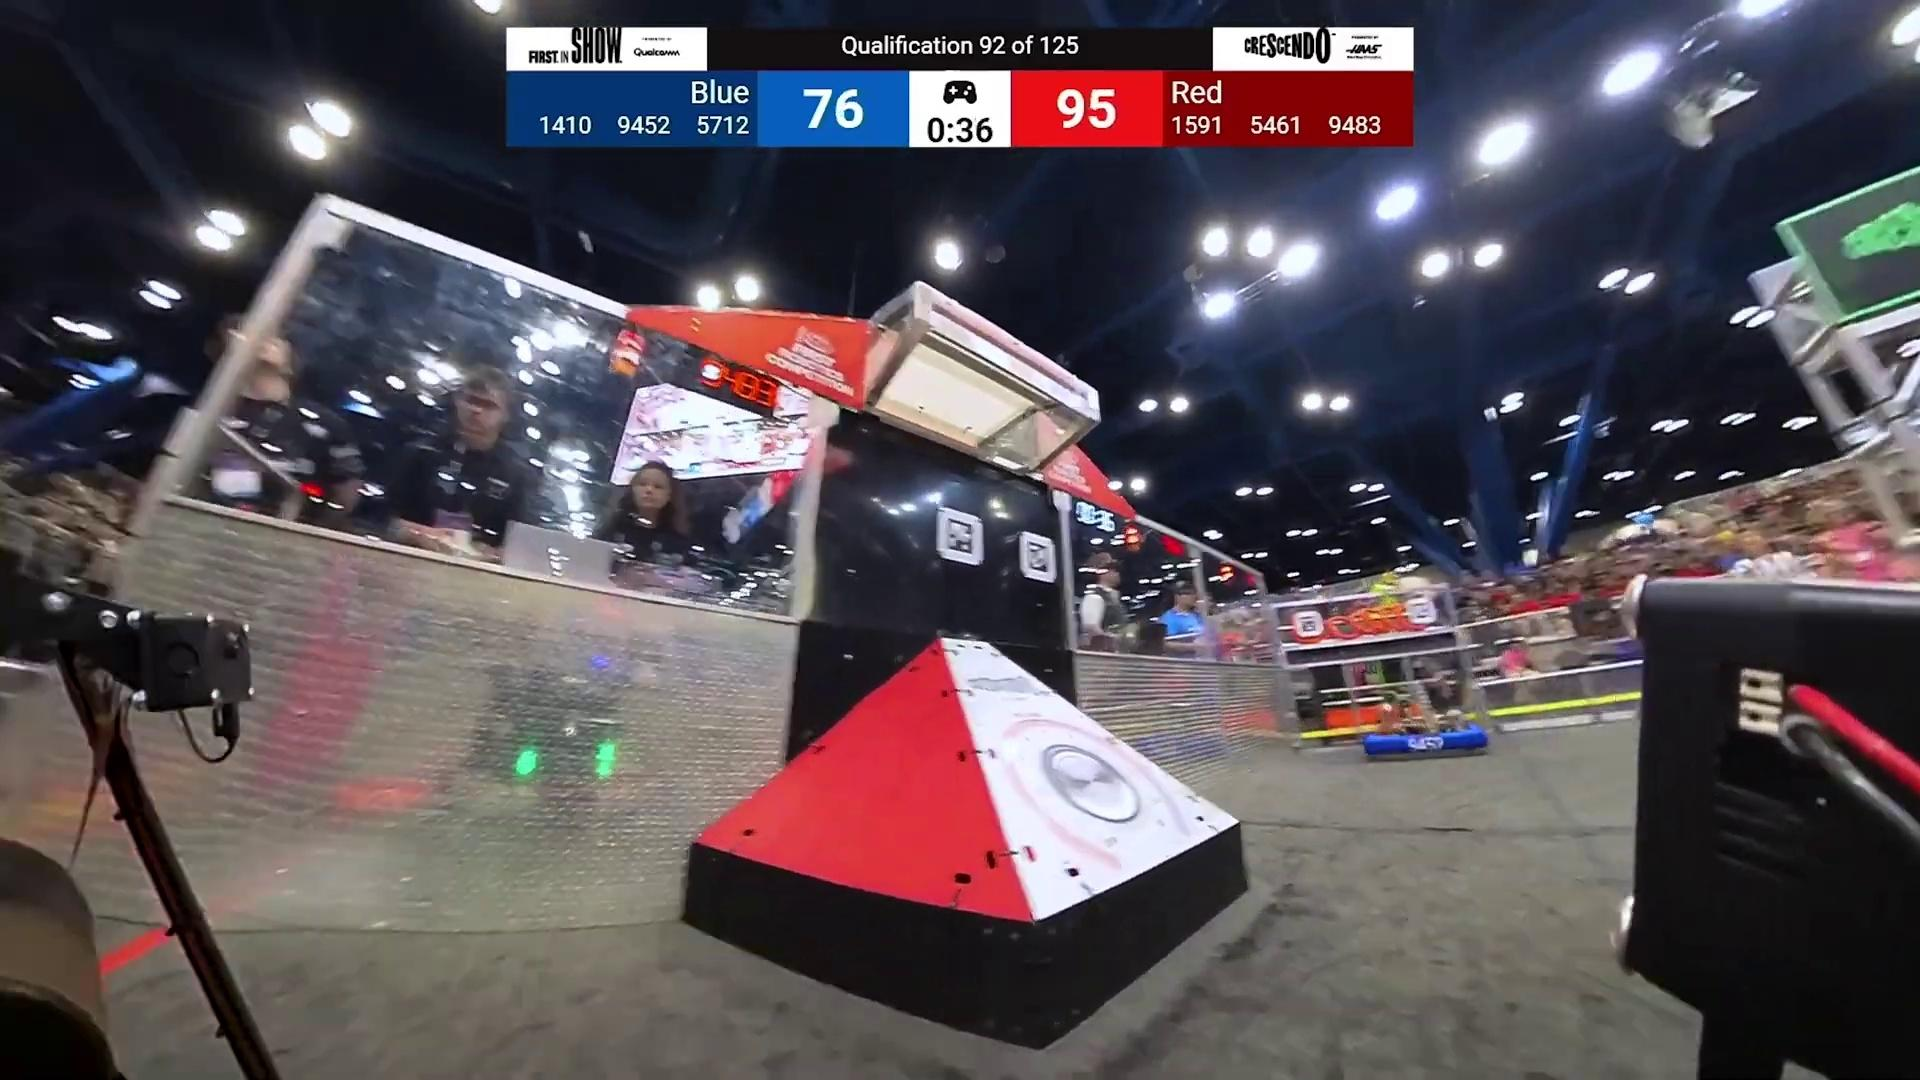robot: (1364, 671, 1489, 760)
